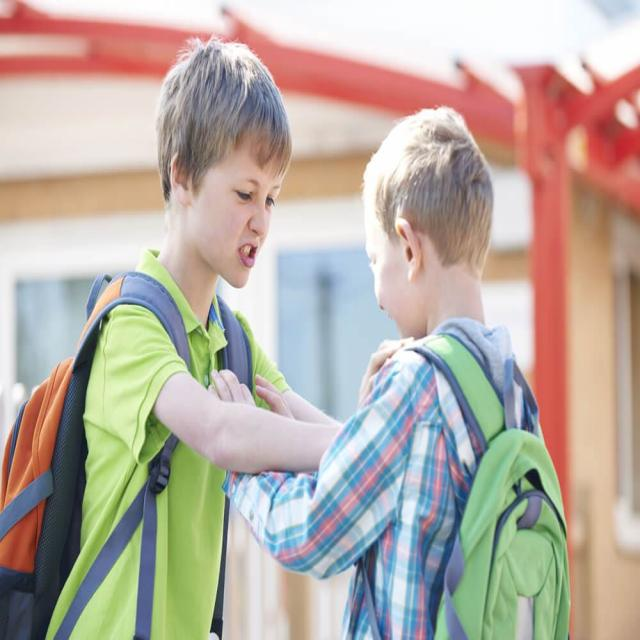fight: (74, 42, 561, 640)
